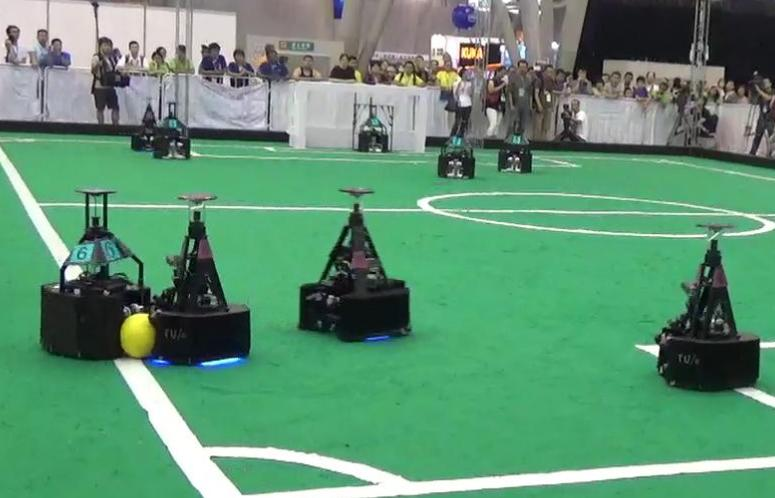robot: (34, 175, 154, 365), (288, 178, 421, 342), (647, 214, 765, 394), (152, 188, 265, 369)
